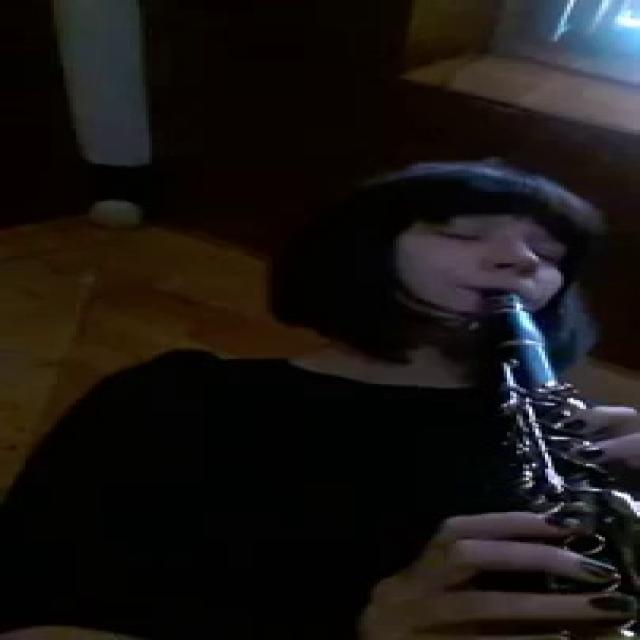Clarinet: (454, 284, 640, 640)
